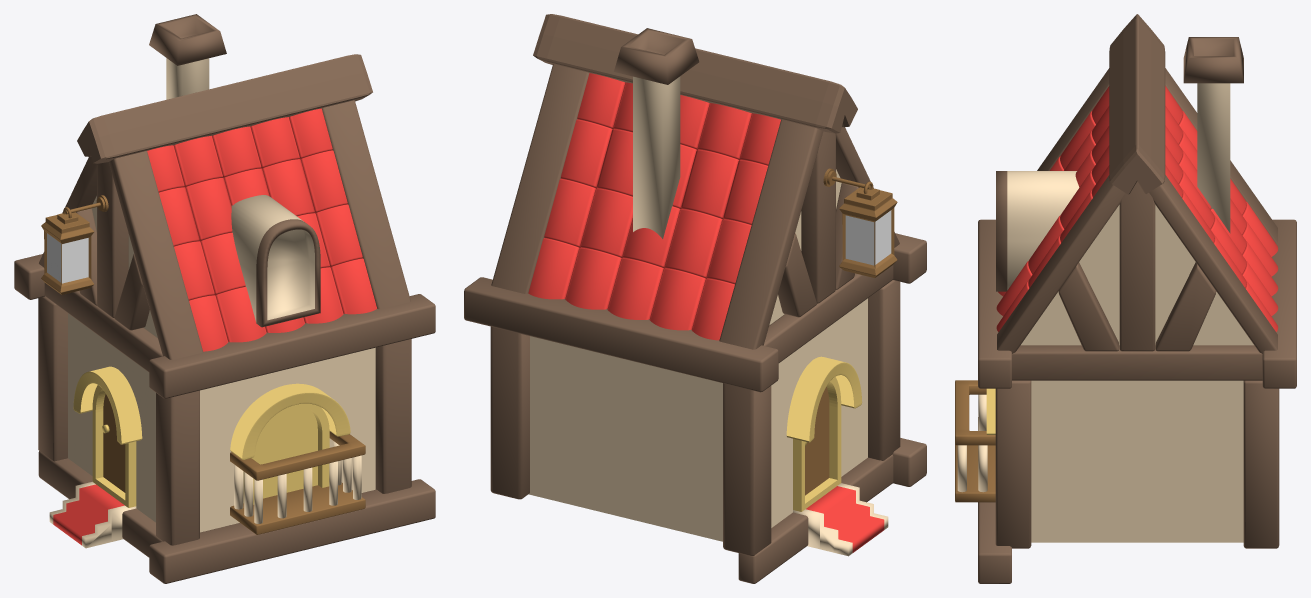
The model's file is House.glb.
The picture shows the model from 3 angles, left to right: view 1: azimuth 30°, elevation 25°; view 2: azimuth 150°, elevation 25°; view 3: azimuth 270°, elevation 25°; orthographic projection. The views are drawn at different scales.
Visible parts, largest first — view 1: Cube.016, Cube.017, Cube.011, Cube.010, Cube.023, Cube.001, Cube.013, Cube.028, Cube.005, Cube.002, Cube.008, Cube.003 (+14 smaller); view 2: Cube.016, Cube.017, Cube.010, Cube.011, Cube.001, Cube.005, Cube.002, Cube.008, Cube.007, Cube.003, Cube.018, Cube.006 (+10 smaller); view 3: Cube.016, Cube.017, Cube.002, Cube, Cube.011, Cube.012, Cube.010, Cube.013, Cube.014, Cube.015, Cube.007, Cube.018 (+9 smaller).
Part boxes in pixels (x1,y1,x2,y2): Cube.016: (68, 313, 375, 532); Cube.017: (38, 296, 411, 545); Cube.011: (77, 54, 372, 163); Cube.010: (14, 254, 435, 398); Cube.023: (149, 479, 435, 583); Cube.001: (39, 151, 202, 359); Cube.013: (231, 195, 320, 327); Cube.028: (230, 431, 365, 534); Cube.005: (173, 135, 266, 342); Cube.002: (321, 100, 410, 309); Cube.008: (289, 108, 377, 314); Cube.003: (147, 145, 228, 351); Cube.016: (529, 298, 867, 541); Cube.017: (490, 280, 900, 555); Cube.010: (464, 233, 926, 392); Cube.011: (533, 14, 857, 133); Cube.001: (719, 119, 899, 349); Cube.005: (649, 103, 751, 330); Cube.002: (491, 64, 589, 293); Cube.008: (528, 73, 625, 299); Cube.007: (565, 82, 632, 309); Cube.003: (692, 113, 780, 340); Cube.018: (633, 76, 680, 238); Cube.006: (607, 95, 709, 319); Cube.016: (1031, 380, 1243, 542); Cube.017: (995, 380, 1279, 548); Cube.002: (997, 175, 1277, 353); Cube: (1021, 204, 1253, 345); Cube.011: (1109, 14, 1165, 194); Cube.012: (1012, 345, 1262, 380); Cube.010: (978, 219, 1296, 388); Cube.013: (996, 171, 1079, 291); Cube.014: (1119, 181, 1155, 351); Cube.015: (1058, 262, 1216, 351); Cube.007: (996, 145, 1278, 315); Cube.018: (1197, 83, 1230, 233).
Bounding box in the file's own units: 14.83 × 20.21 × 13.4.
